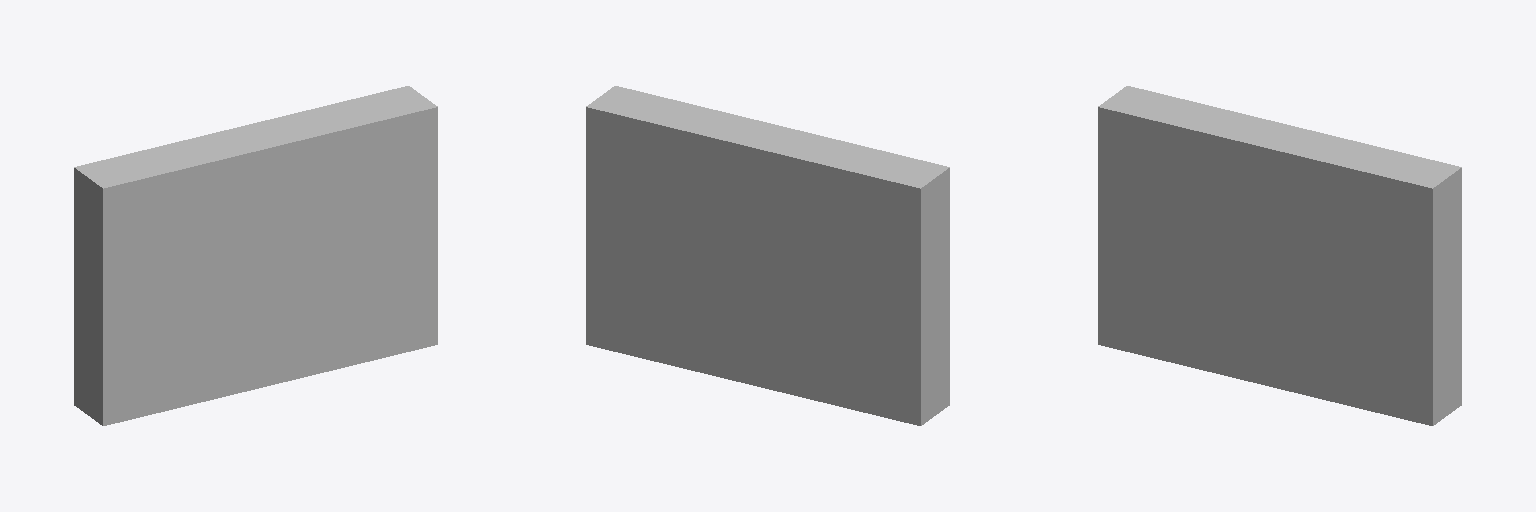
The model's file is SingleBuildingTest_15cut.obj.
3 renders of one model, left to right at view 1: azimuth 30°, elevation 25°; view 2: azimuth 150°, elevation 25°; view 3: azimuth 330°, elevation 25°, orthographic.
Visible parts, largest first — view 1: Cube; view 2: Cube; view 3: Cube.
Part boxes in pixels (x1,y1,x2,y2): Cube: (74, 86, 437, 425); Cube: (586, 86, 949, 425); Cube: (1098, 86, 1461, 425).
Bounding box in the file's own units: 54.43 × 36.93 × 8.24.